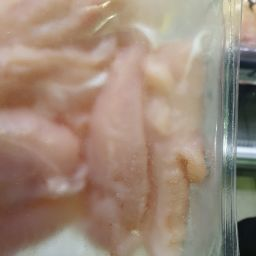Chicken Thigh Fillets: (9, 26, 167, 235), (5, 36, 179, 107), (5, 103, 89, 174)
